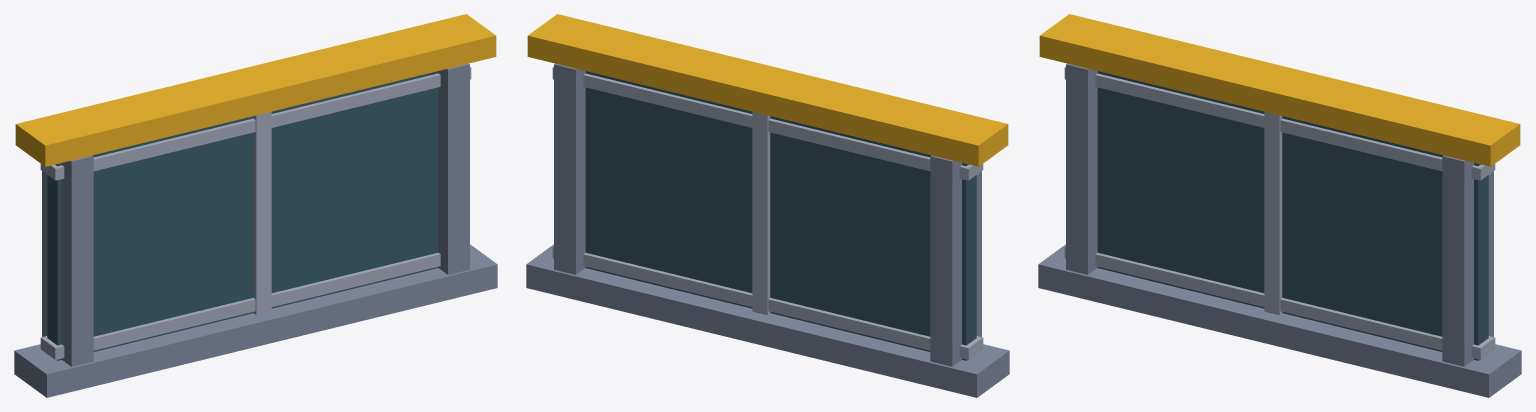
Rendered from wall_glass.glb.
3 renders of one model, left to right at view 1: azimuth 30°, elevation 25°; view 2: azimuth 150°, elevation 25°; view 3: azimuth 330°, elevation 25°, orthographic.
Parts seen in each view (by area): view 1: wall_glass; view 2: wall_glass; view 3: wall_glass.
Boxes of the visible parts, box(x1,y1,x2,y2) form: wall_glass: box(14, 14, 497, 397); wall_glass: box(526, 14, 1009, 397); wall_glass: box(1038, 14, 1521, 397).
Size of the model in its own units: 2 by 1.06 by 0.25.
